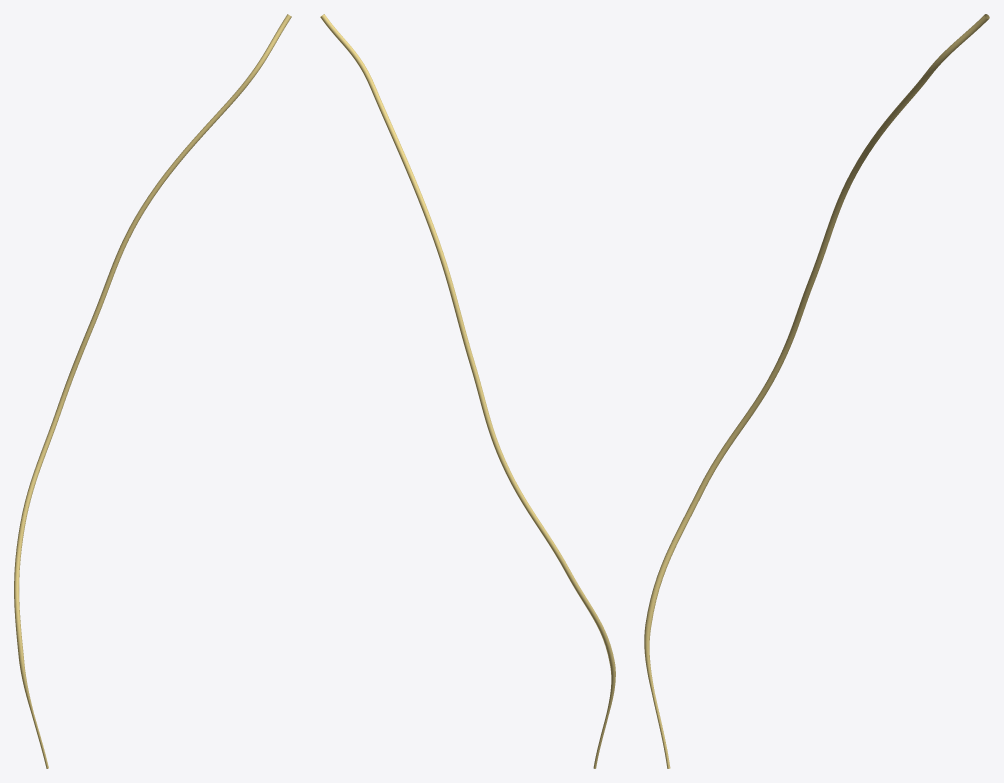
3 renders of one model, left to right at view 1: azimuth 30°, elevation 25°; view 2: azimuth 150°, elevation 25°; view 3: azimuth 330°, elevation 25°, orthographic. The views are drawn at different scales.
Parts seen in each view (by area): view 1: ZA_4ba0adbac9724c4d; view 2: ZA_4ba0adbac9724c4d; view 3: ZA_4ba0adbac9724c4d.
Part boxes in pixels (x1,y1,x2,y2): ZA_4ba0adbac9724c4d: (14,14,291,768); ZA_4ba0adbac9724c4d: (320,14,615,768); ZA_4ba0adbac9724c4d: (644,14,989,768).
Bounding box in the file's own units: 0.1234 × 0.2881 × 0.0318.
